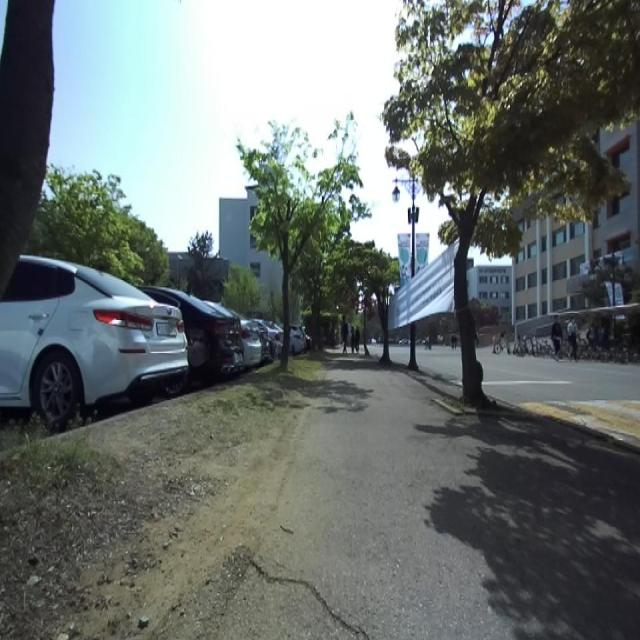sidewalk: (217, 356, 640, 639)
